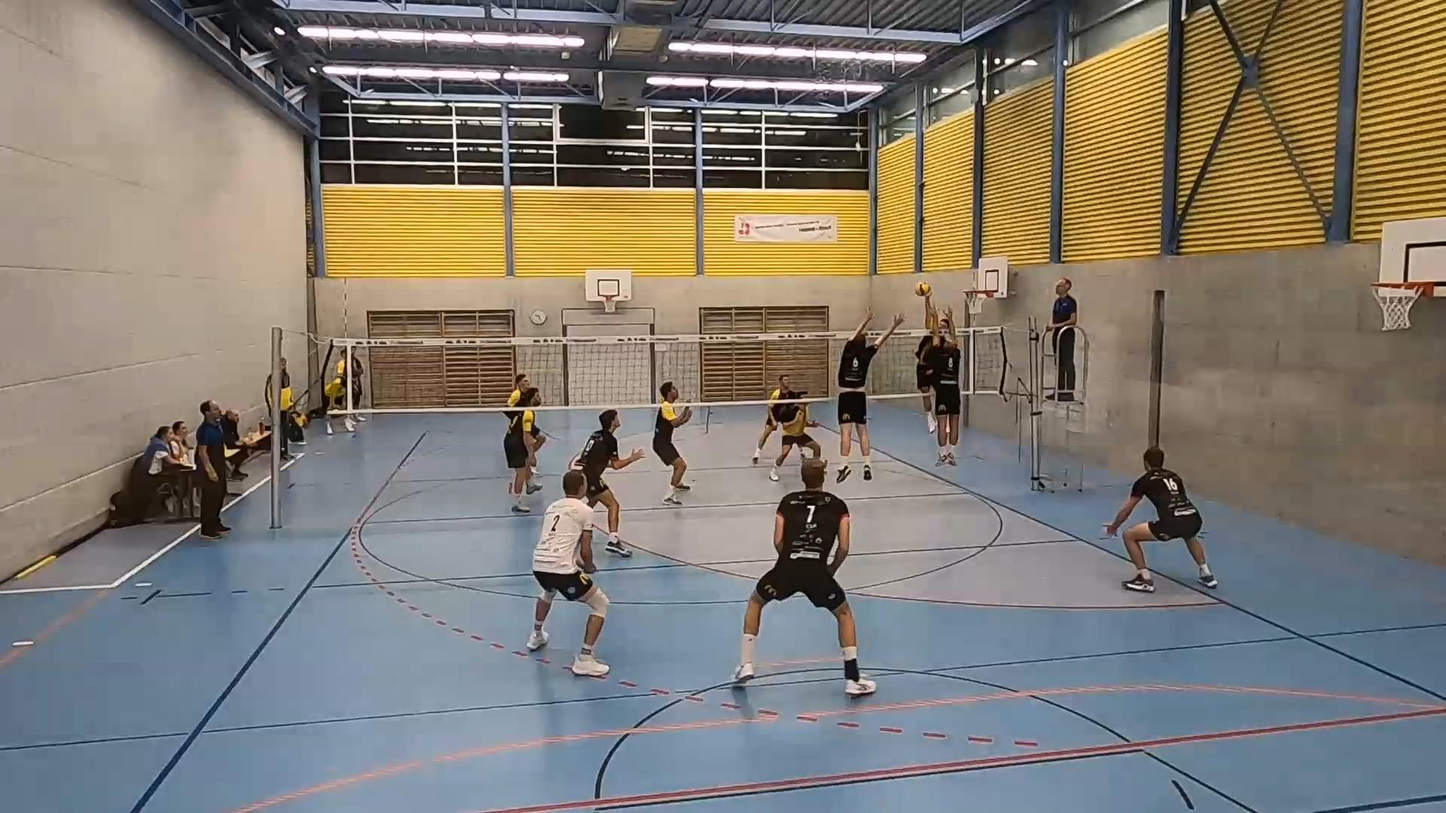attacco: (910, 279, 950, 427)
muro: (831, 312, 905, 475), (916, 312, 975, 473)
